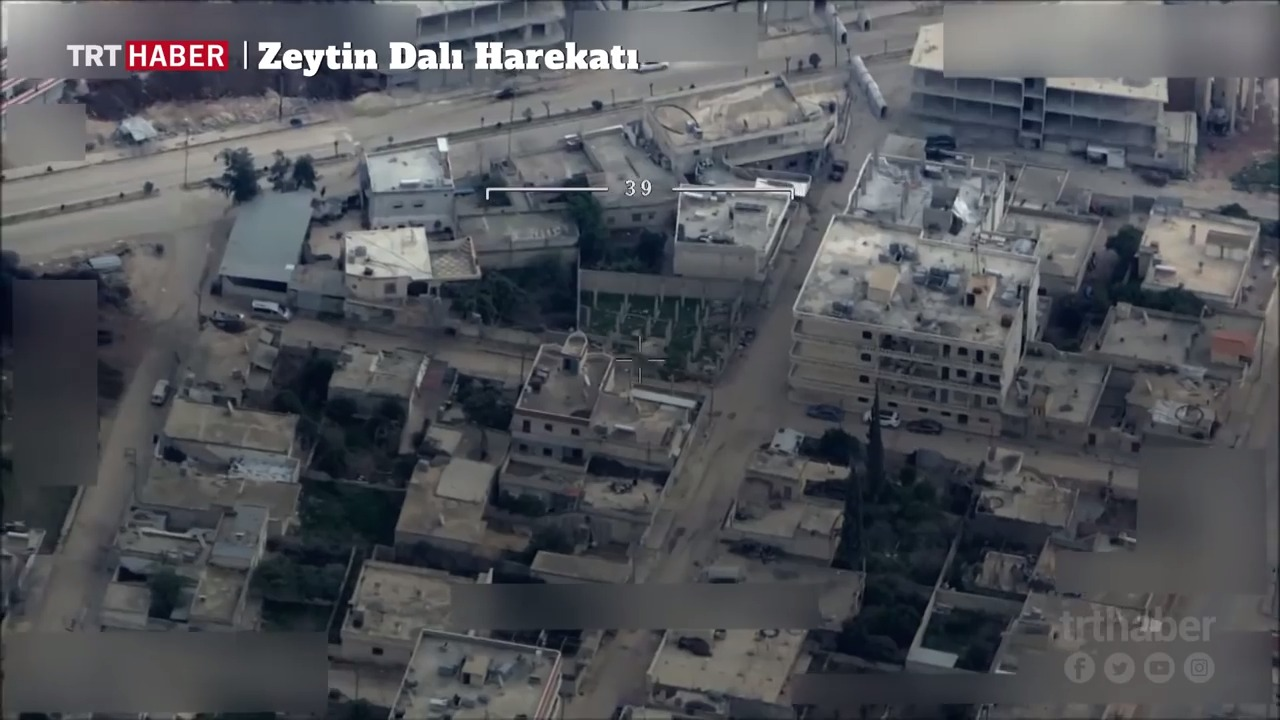arac: (140, 361, 189, 406), (245, 289, 297, 324), (822, 152, 854, 192), (796, 403, 851, 424), (861, 402, 900, 430), (901, 415, 952, 432)
